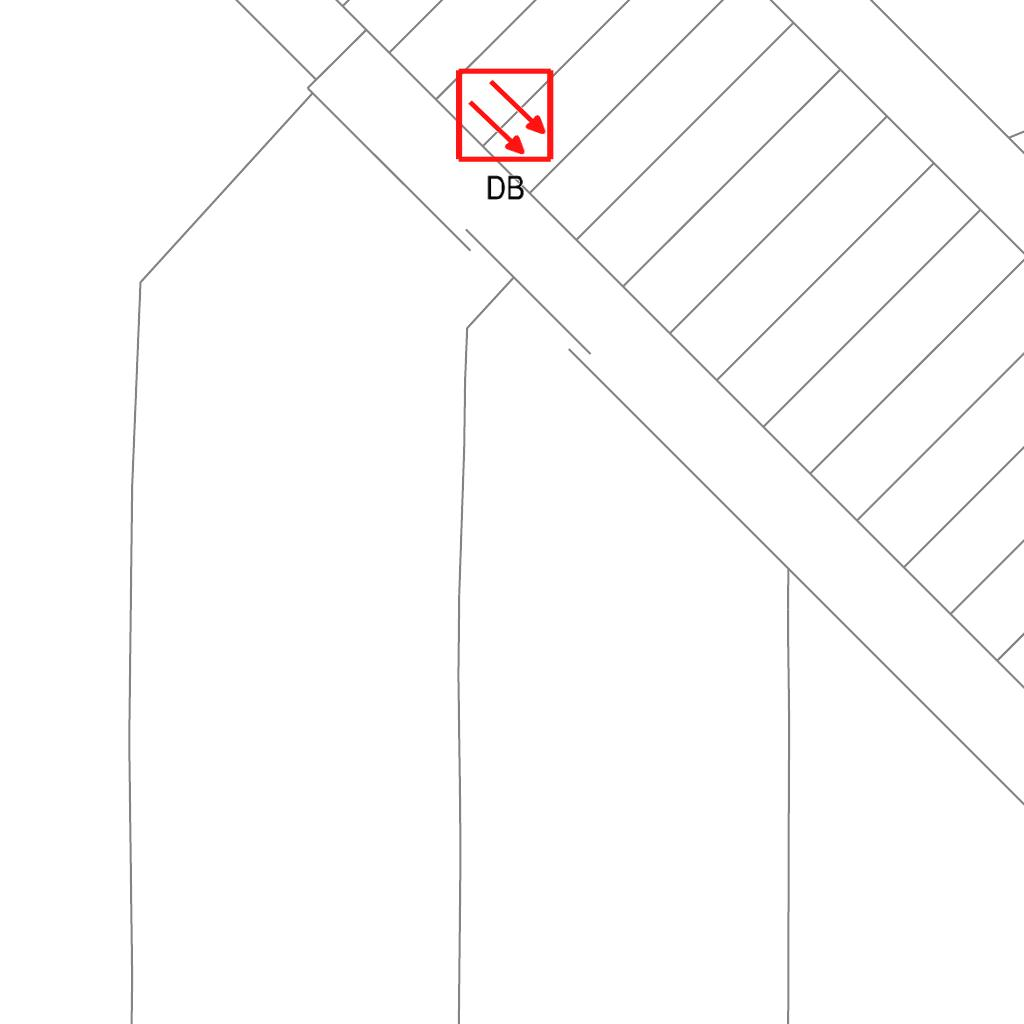DB_Melder_in_Doppelboden_mit_Revisionsoeffnung_mind_40_x_40_cm: (449, 61, 563, 210)
